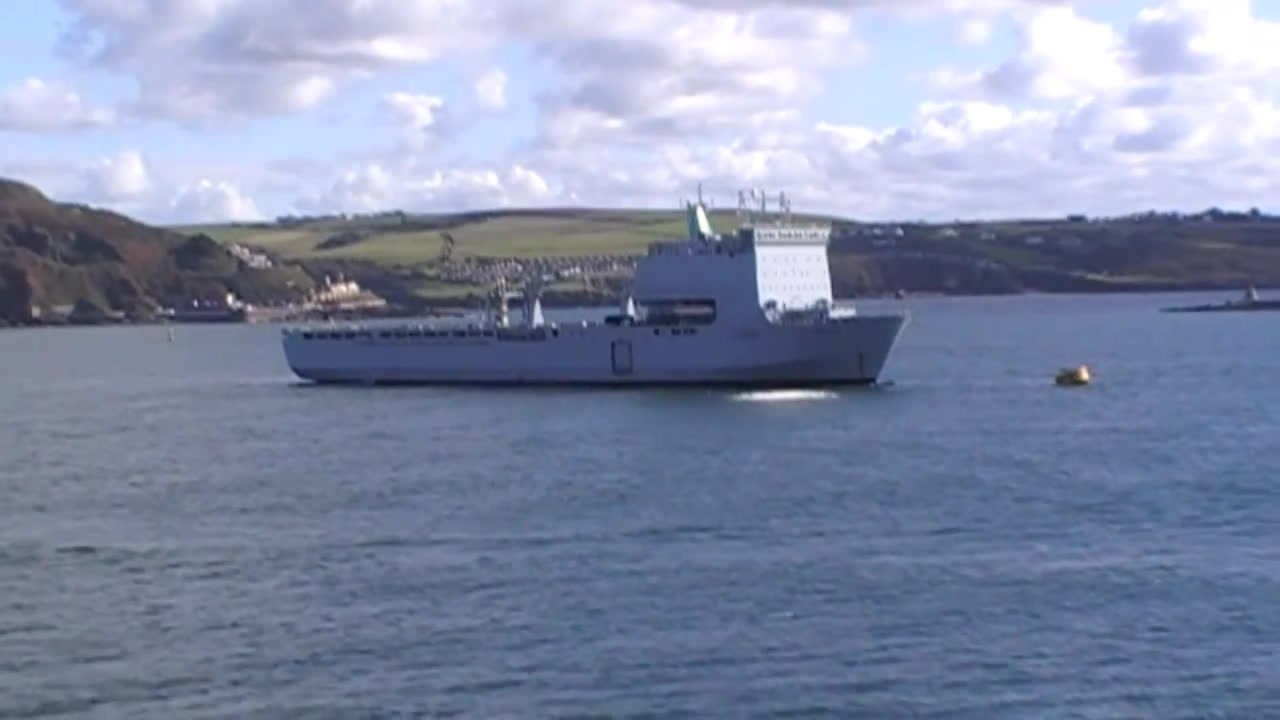boat: (277, 194, 912, 395)
